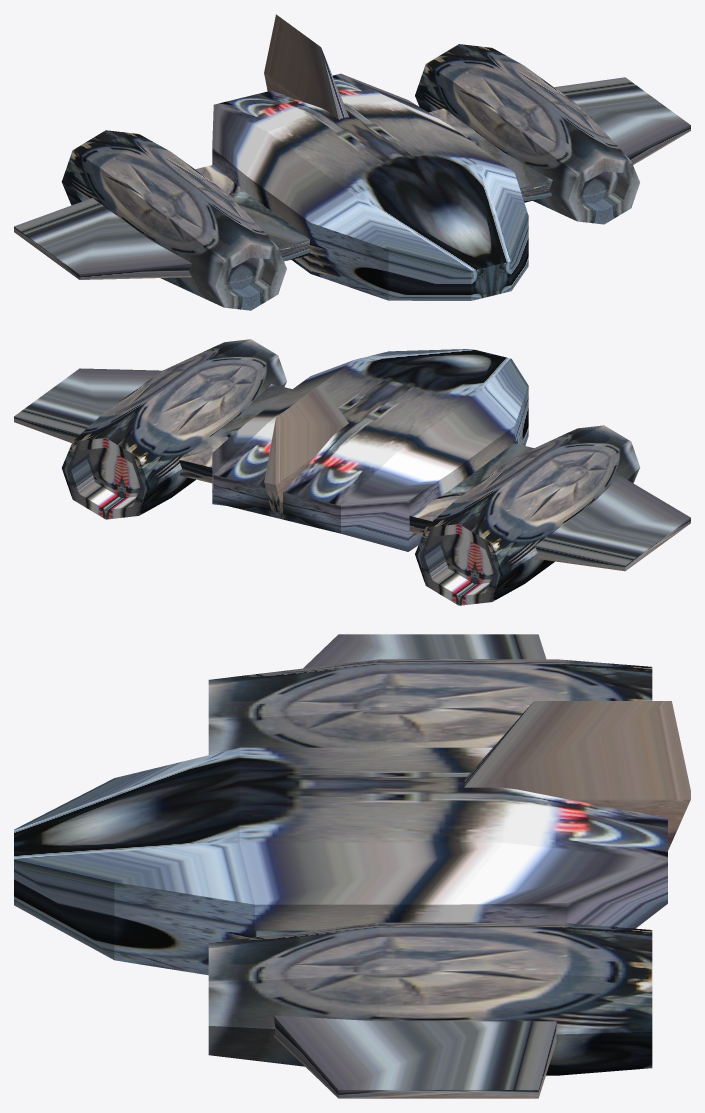
Rendered from m2-ship1.obj.
3 renders of one model, top to bottom at view 1: azimuth 30°, elevation 25°; view 2: azimuth 150°, elevation 25°; view 3: azimuth 270°, elevation 25°, orthographic. The views are drawn at different scales.
Parts seen in each view (by area): view 1: M2_Ship_1_Cube.059; view 2: M2_Ship_1_Cube.059; view 3: M2_Ship_1_Cube.059.
Boxes of the visible parts, x1,y1,x2,y2 form: M2_Ship_1_Cube.059: (14,14,690,310); M2_Ship_1_Cube.059: (14,339,690,605); M2_Ship_1_Cube.059: (14,634,690,1098).
Size of the model in its own units: 26.28 by 6.4 by 16.51.
